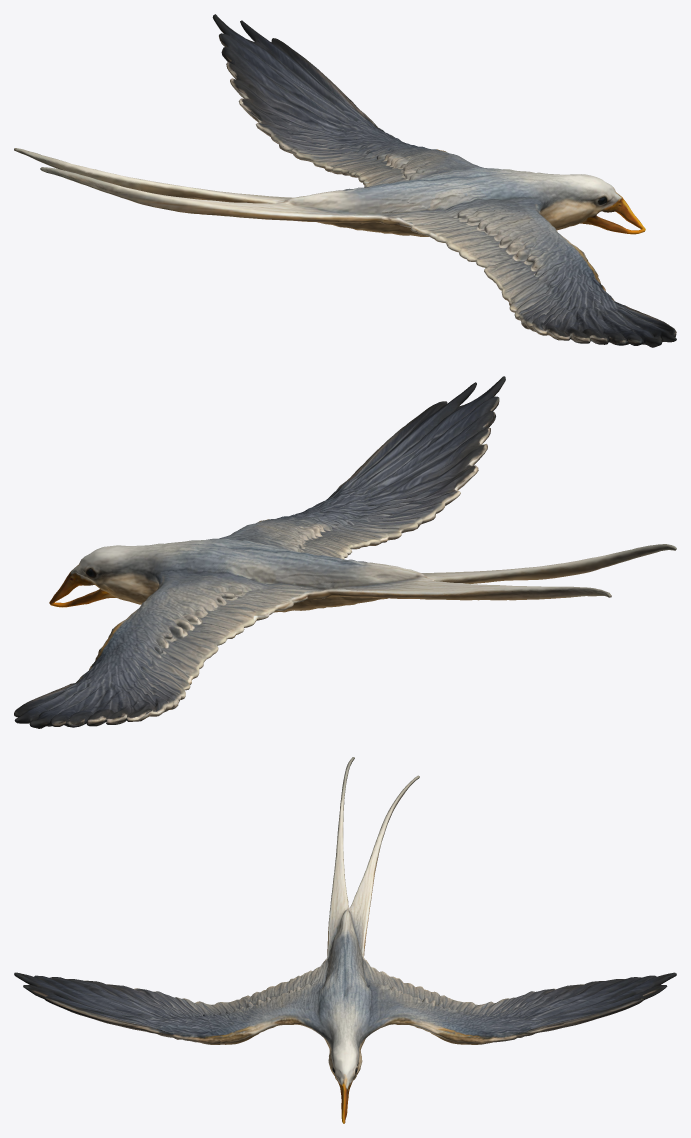
The model's file is pearl-gull.glb.
3 views of the same model, one above another, from view 1: azimuth 30°, elevation 25°; view 2: azimuth 150°, elevation 25°; view 3: azimuth 270°, elevation 25° (orthographic). The views are drawn at different scales.
Visible parts, largest first — view 1: tripo_node_d8a5af56-51cd-43c7-a962-a32ab32ed30b; view 2: tripo_node_d8a5af56-51cd-43c7-a962-a32ab32ed30b; view 3: tripo_node_d8a5af56-51cd-43c7-a962-a32ab32ed30b.
Part boxes in pixels (x1=…): tripo_node_d8a5af56-51cd-43c7-a962-a32ab32ed30b: x1=14, y1=14, x2=676, y2=347; tripo_node_d8a5af56-51cd-43c7-a962-a32ab32ed30b: x1=14, y1=376, x2=676, y2=728; tripo_node_d8a5af56-51cd-43c7-a962-a32ab32ed30b: x1=14, y1=757, x2=676, y2=1123.
Size of the model in its own units: 0.7723 by 0.2528 by 1.
1 material, 1 textured.
